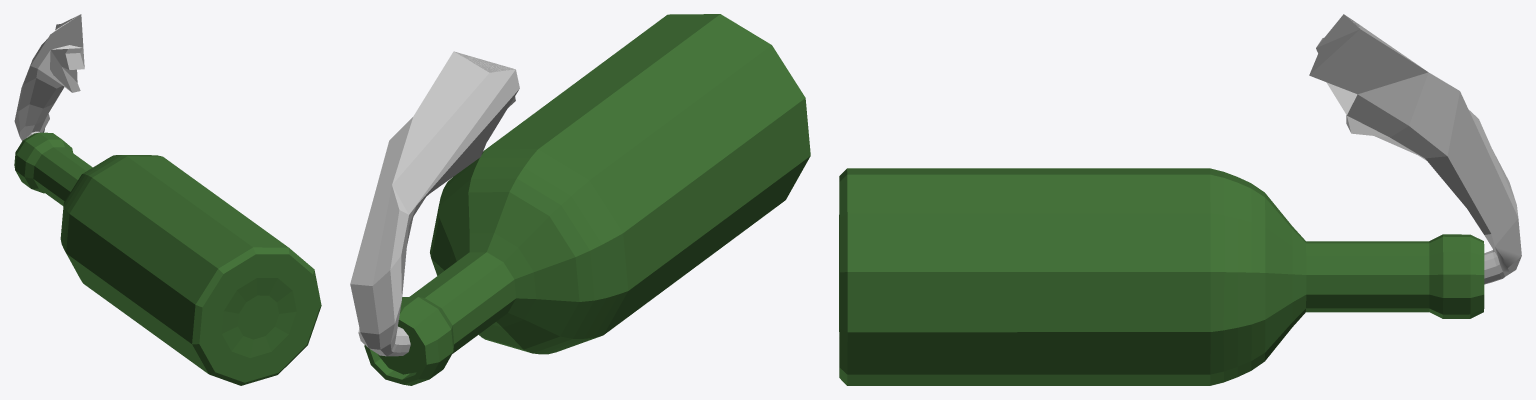
File: Molotov.fbx
3 renders of one model, left to right at view 1: azimuth 30°, elevation 25°; view 2: azimuth 150°, elevation 25°; view 3: azimuth 270°, elevation 25°, orthographic. The views are drawn at different scales.
Parts seen in each view (by area): view 1: Cylinder; view 2: Cylinder; view 3: Cylinder.
Part boxes in pixels (bbox=[...]): Cylinder: bbox=[14, 14, 321, 385]; Cylinder: bbox=[350, 14, 810, 385]; Cylinder: bbox=[839, 14, 1521, 385].
Size of the model in its own units: 199 by 347 by 621.
